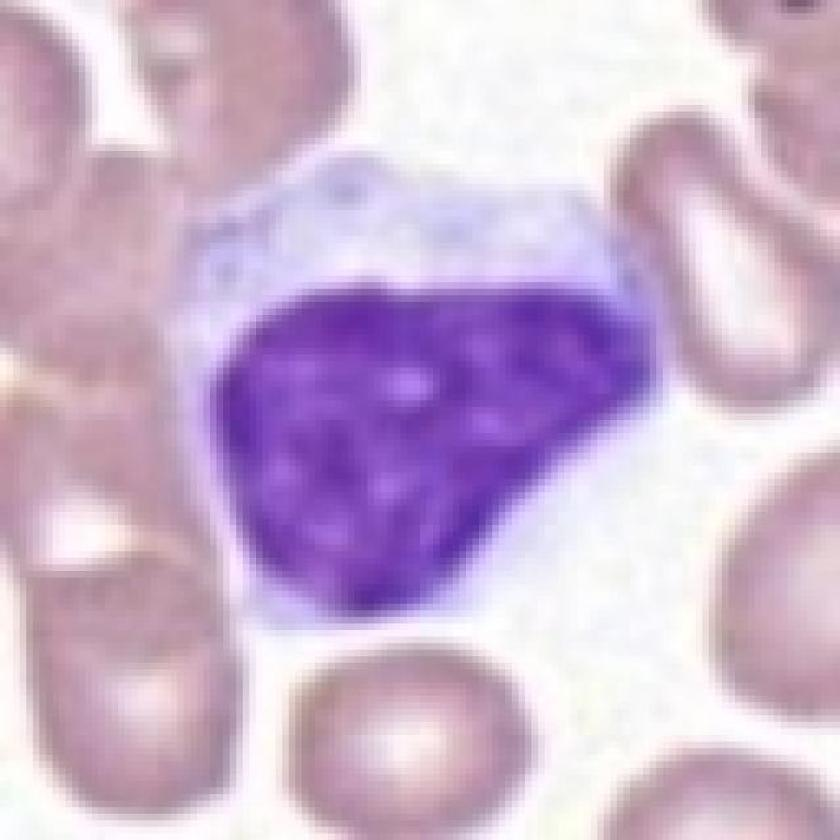lymphocyte: (166, 138, 672, 634)
